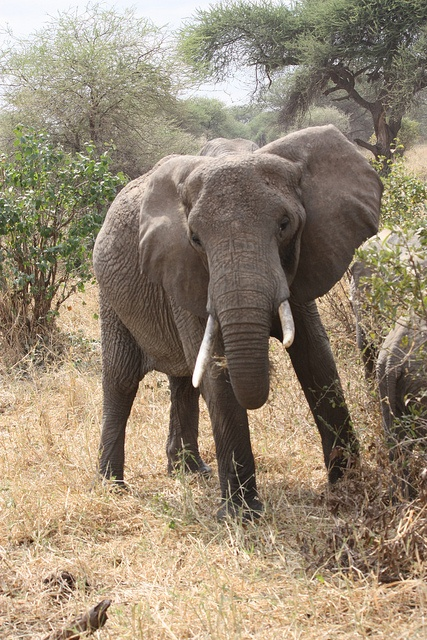elephant: (85, 125, 380, 523)
